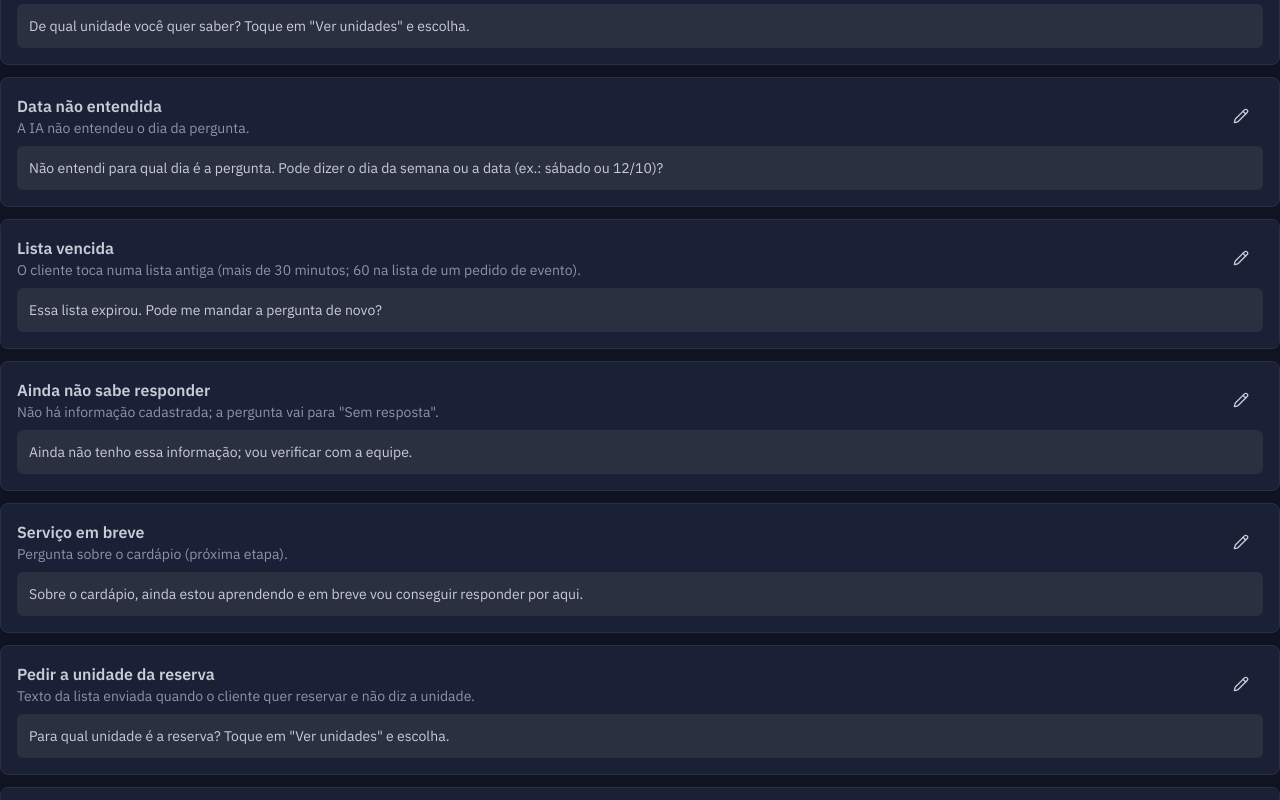
Test: Modelos › ação que lança vira erro geral em português
(page scrolled)
What coordinates should you click on to do the following:
click the button named "Editar: Ainda não sabe responder"
I would click on:
 (1241, 400)
Its box is [1219,378,1263,422].
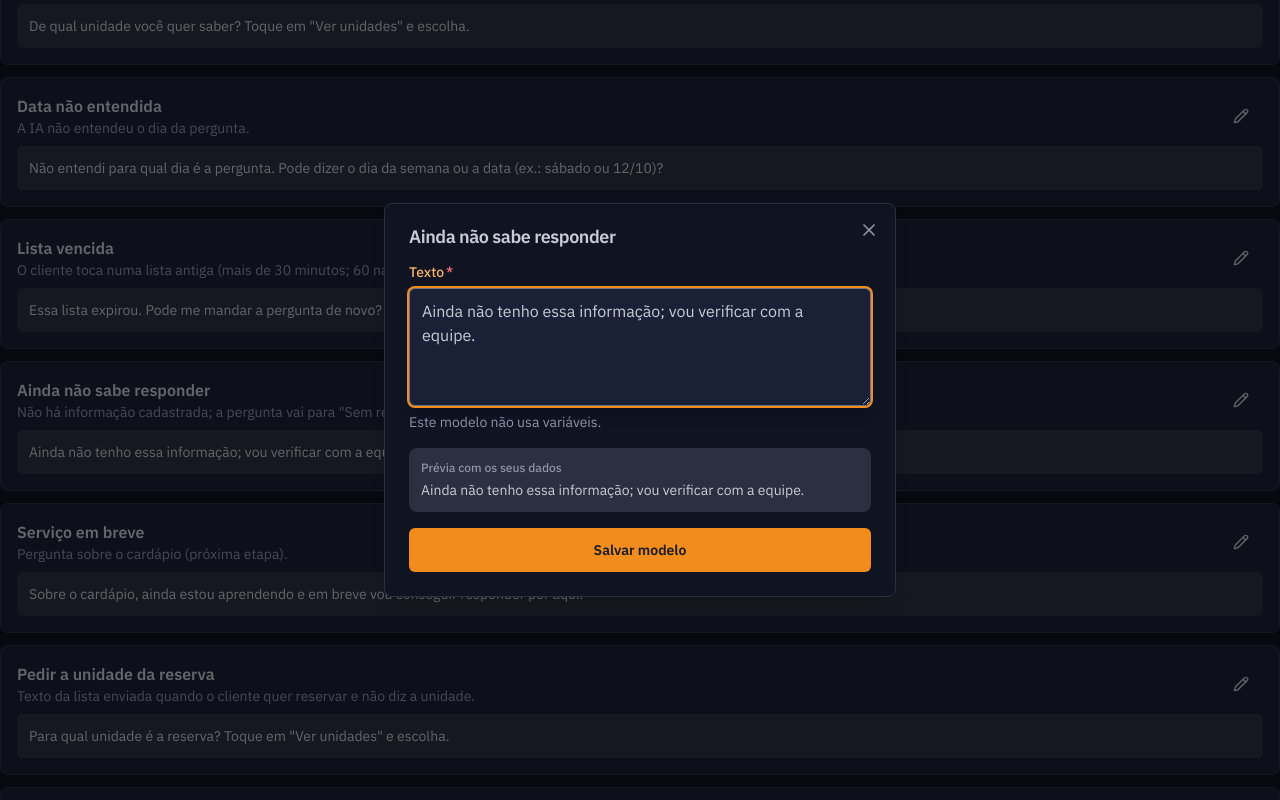
What coordinates should you click on to do the following:
click the button "Salvar modelo"
I would click on:
 (640, 550)
Its box is [409,528,871,572].
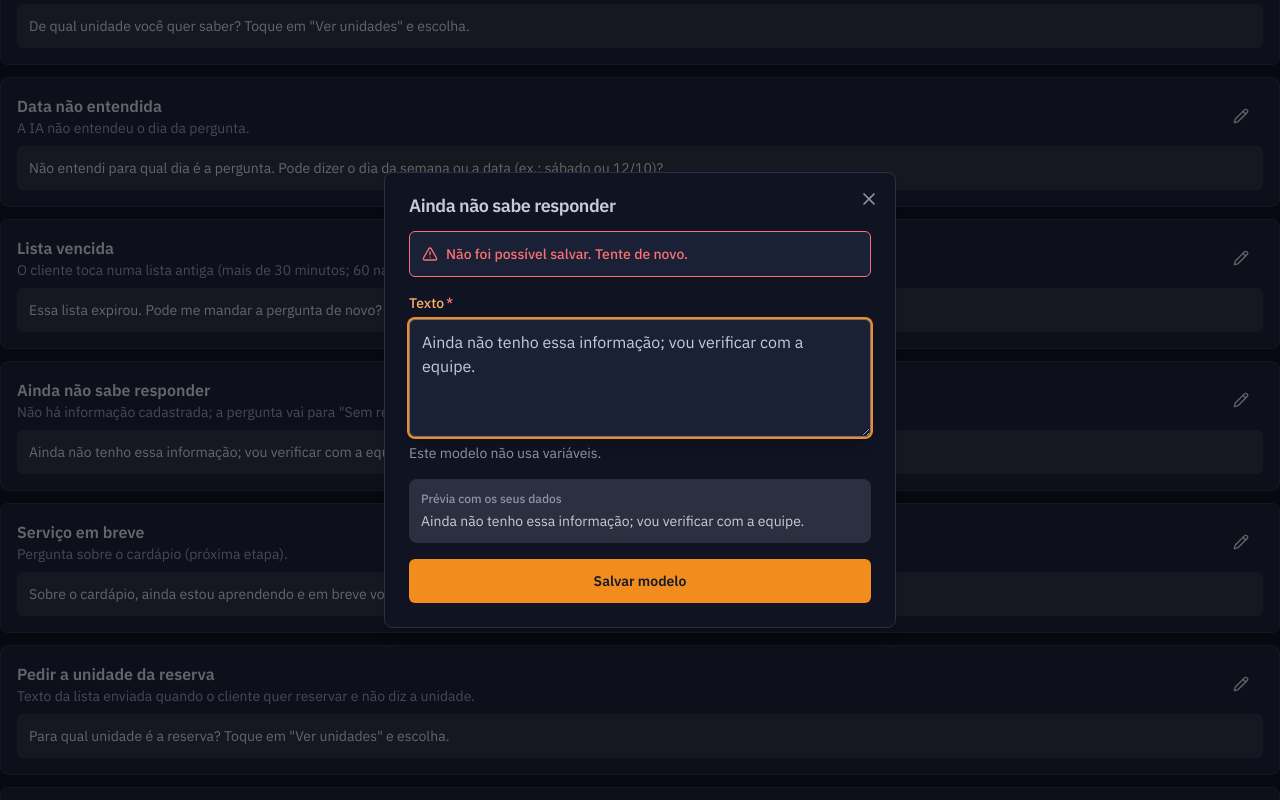
expect the message reads "Não foi possível salvar. Tente de novo.": met, box [446,245,688,263]
